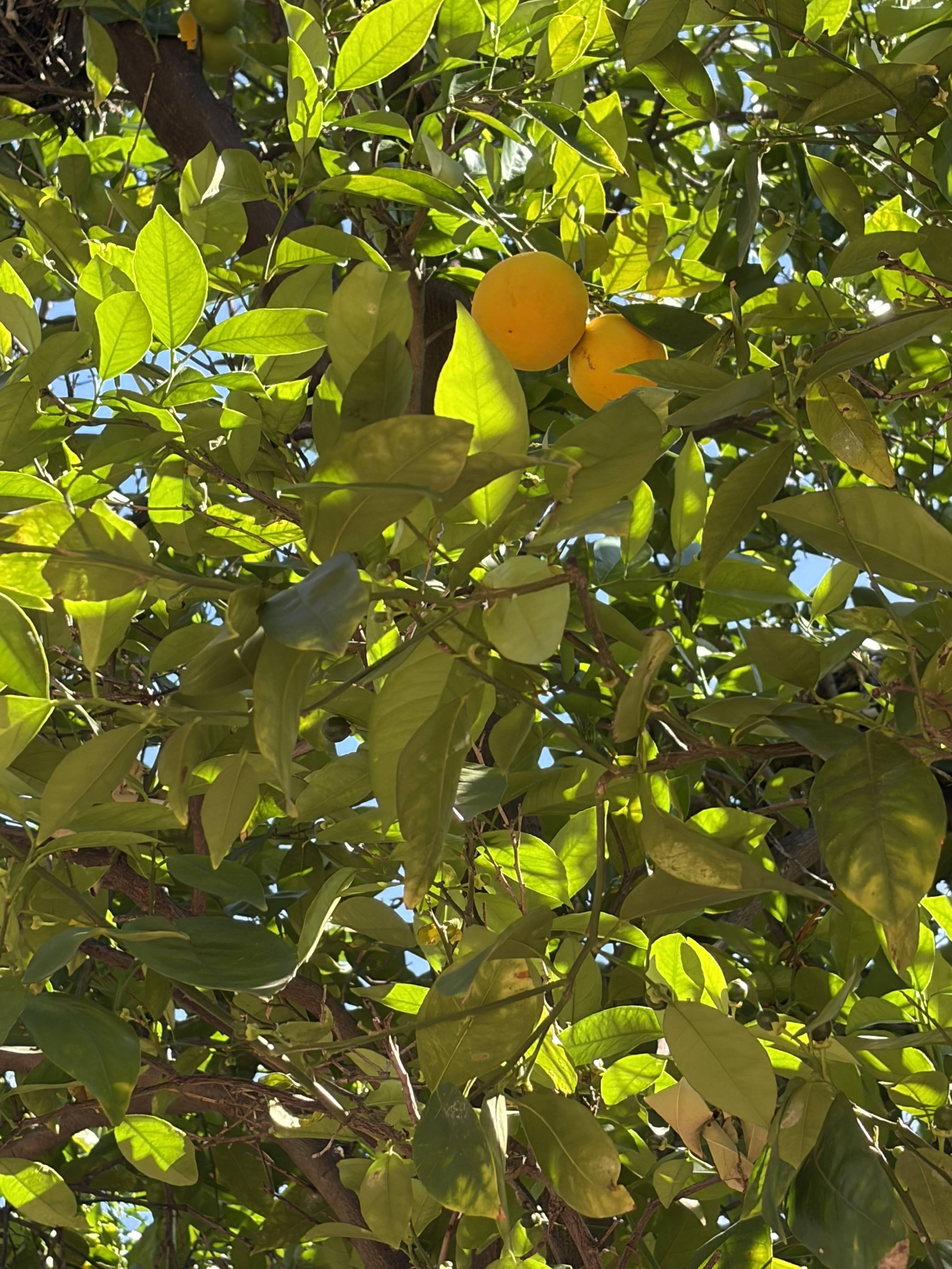orange: (471, 252, 588, 370), (569, 313, 669, 411), (201, 26, 246, 74), (191, 0, 244, 32), (177, 11, 198, 50)
